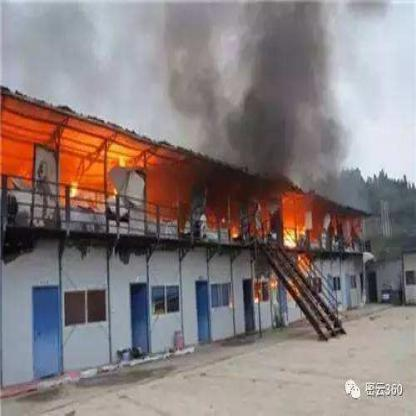fire: (206, 177, 272, 239), (280, 189, 304, 253)
